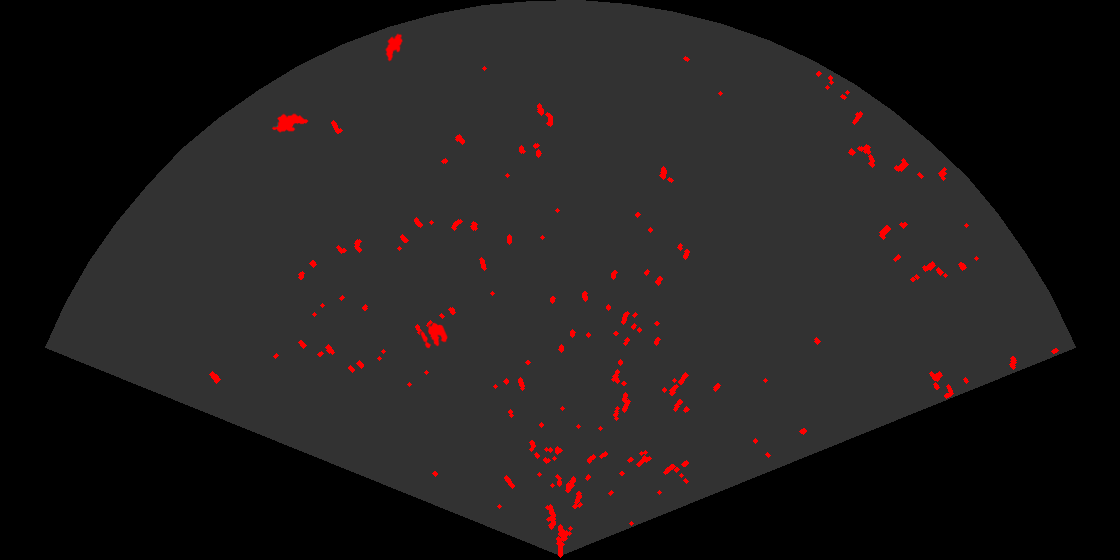AUV: (270, 112, 310, 134), (383, 32, 404, 63)
ball: (419, 321, 449, 350)
